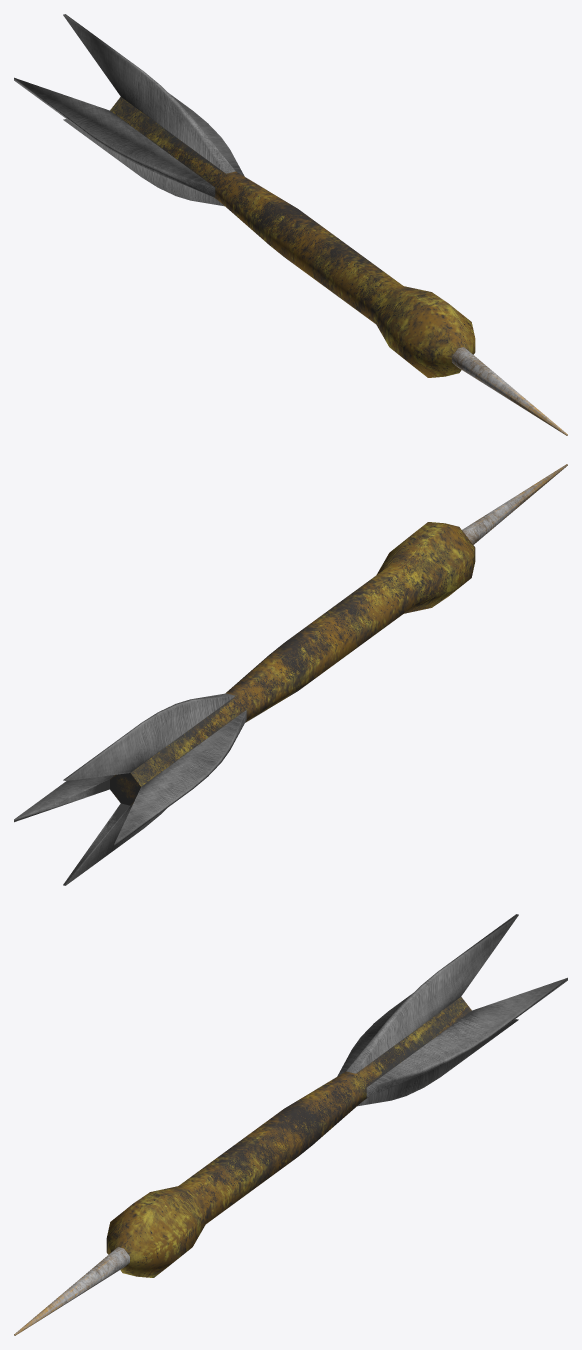
The model's file is DartL.fbx.
3 views of the same model, one above another, from view 1: azimuth 30°, elevation 25°; view 2: azimuth 150°, elevation 25°; view 3: azimuth 330°, elevation 25° (orthographic).
Parts seen in each view (by area): view 1: DartL; view 2: DartL; view 3: DartL.
Part boxes in pixels (left/top/right/bottom): DartL: left=14, top=14, right=567, bottom=435; DartL: left=14, top=464, right=567, bottom=885; DartL: left=14, top=914, right=567, bottom=1335.
Size of the model in its own units: 3.77 by 3.77 by 32.76.
